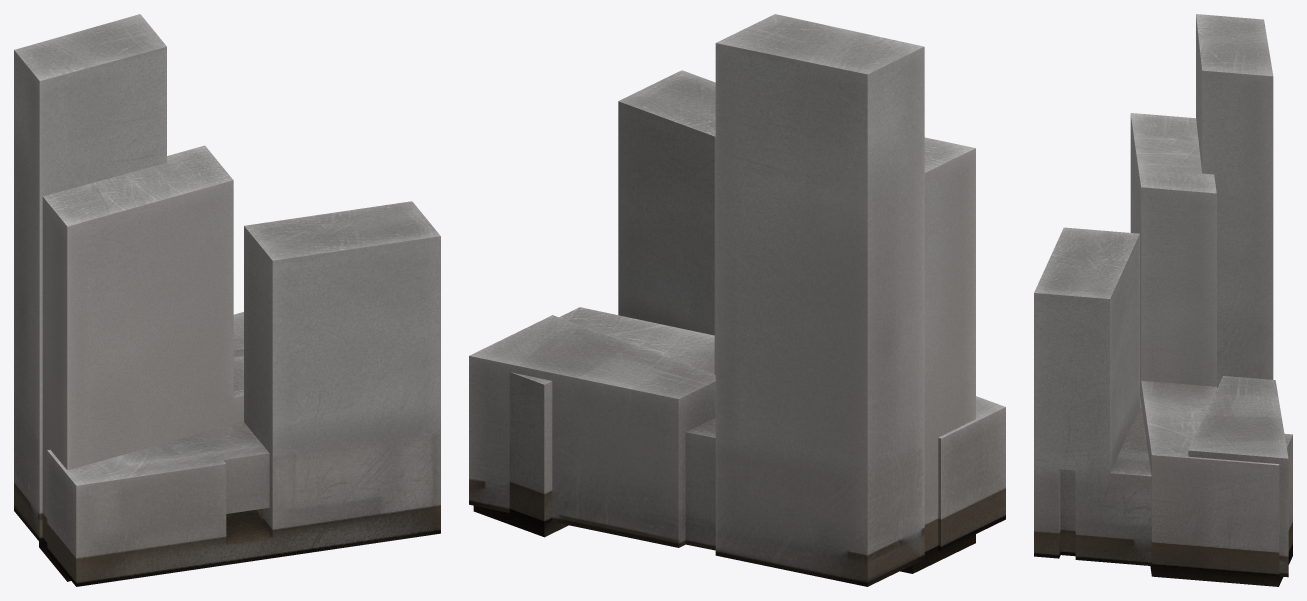
File: AThenB.DAE
3 renders of one model, left to right at view 1: azimuth 30°, elevation 25°; view 2: azimuth 150°, elevation 25°; view 3: azimuth 270°, elevation 25°, orthographic. The views are drawn at different scales.
Visible parts, largest first — view 1: Playground01AMax001, Playground02AMax; view 2: Playground01AMax001, Playground02AMax; view 3: Playground01AMax001, Playground02AMax.
Boxes of the visible parts, x1,y1,x2,y2 form: Playground01AMax001: (14, 14, 440, 586); Playground02AMax: (39, 145, 243, 581); Playground01AMax001: (469, 14, 1005, 586); Playground02AMax: (473, 137, 975, 573); Playground01AMax001: (1034, 14, 1288, 577); Playground02AMax: (1130, 113, 1292, 586).
Bounding box in the file's own units: 4342 × 5187 × 2914.
2 materials, 2 textured.
